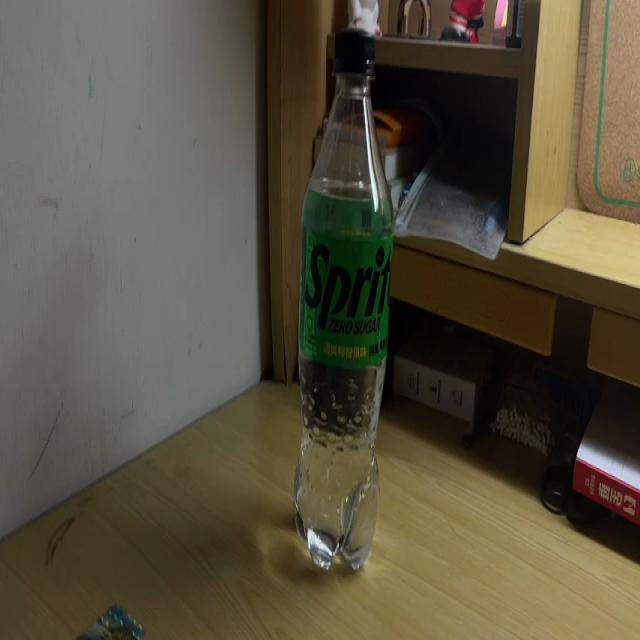Sprite: (296, 29, 396, 573)
